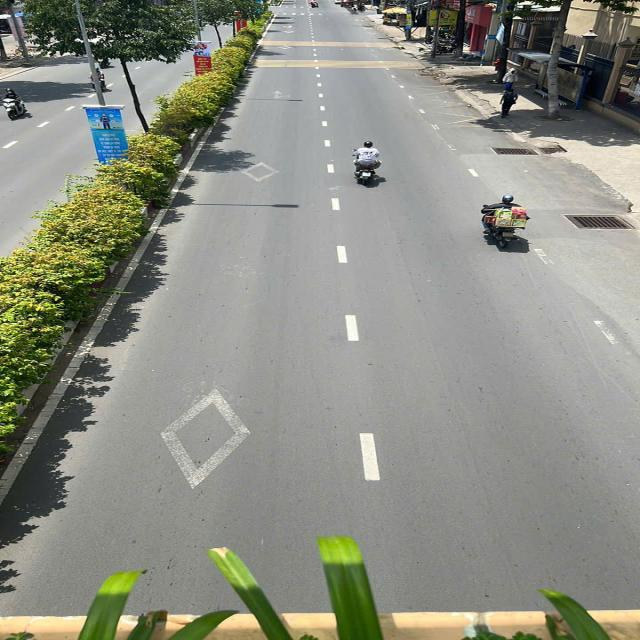motobyte: (478, 192, 538, 253), (346, 138, 390, 189), (0, 86, 31, 124)
